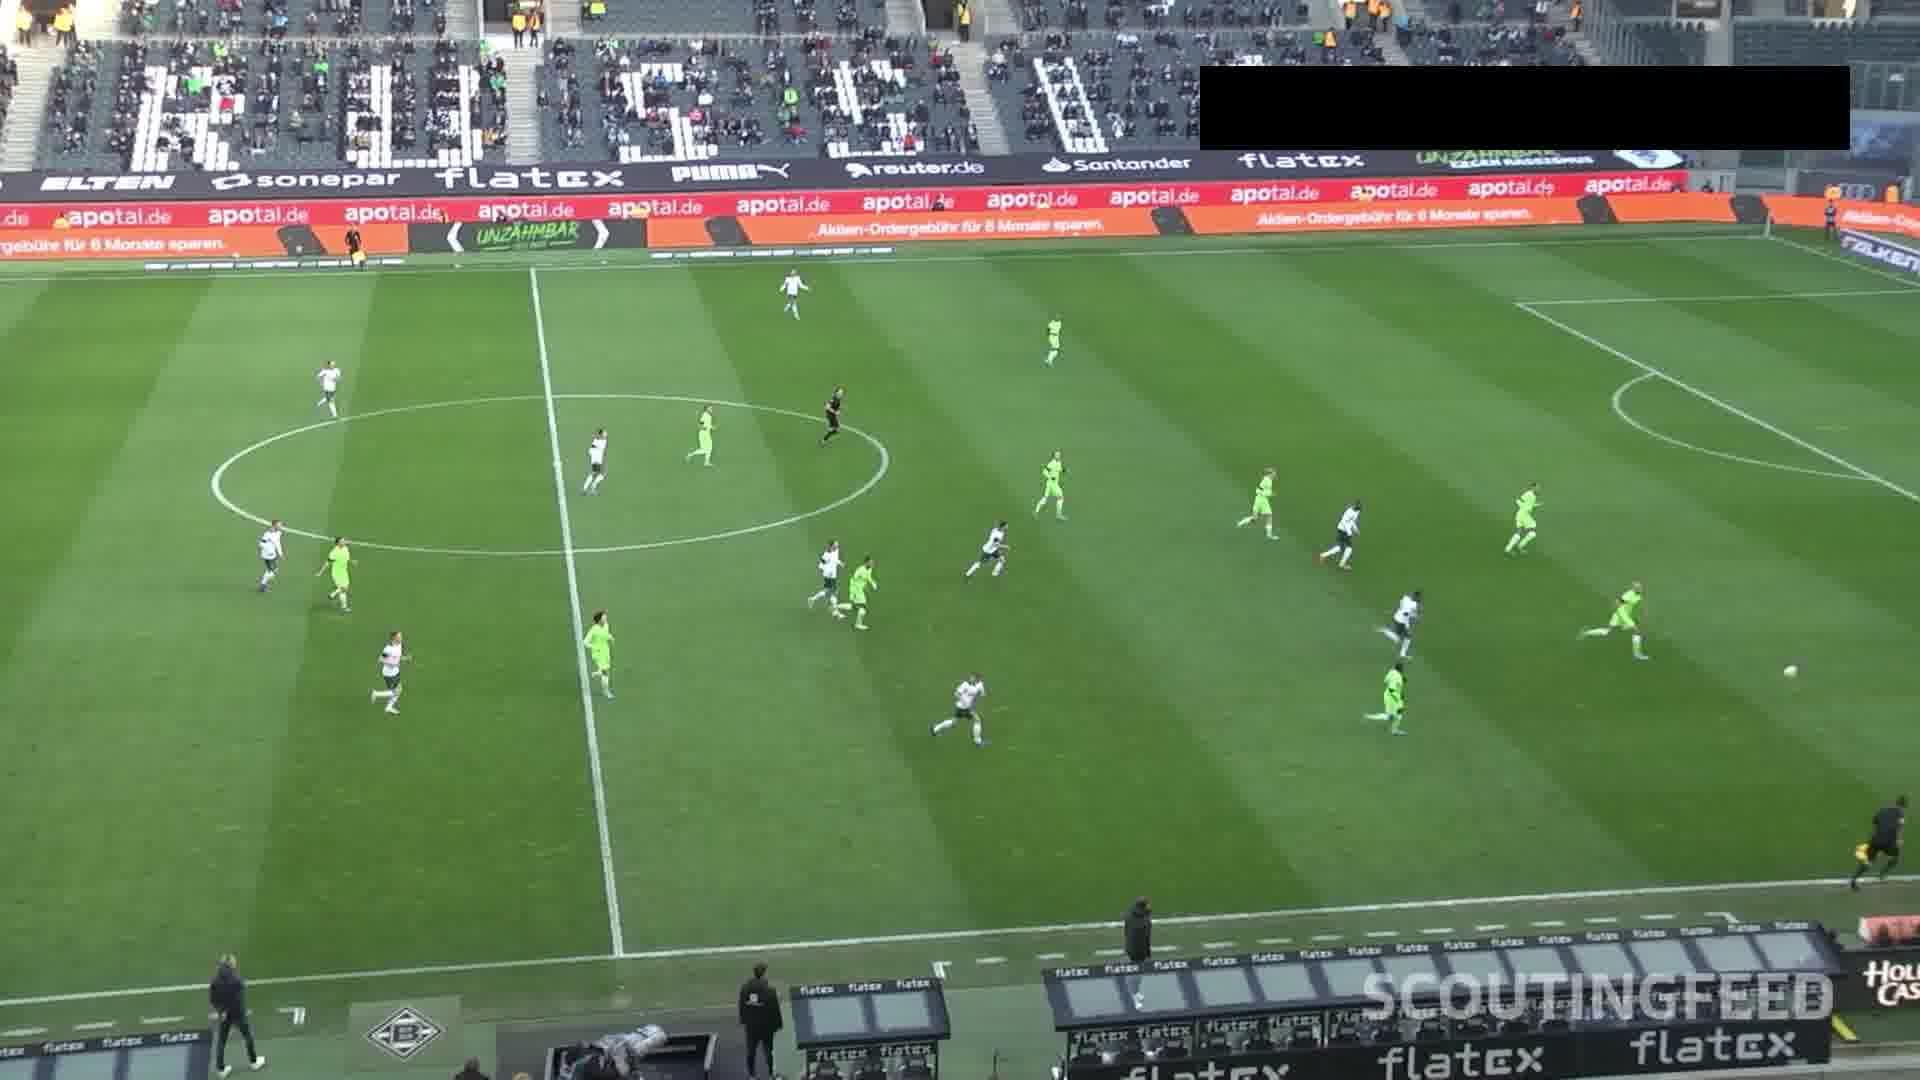football: (1782, 662, 1799, 679)
